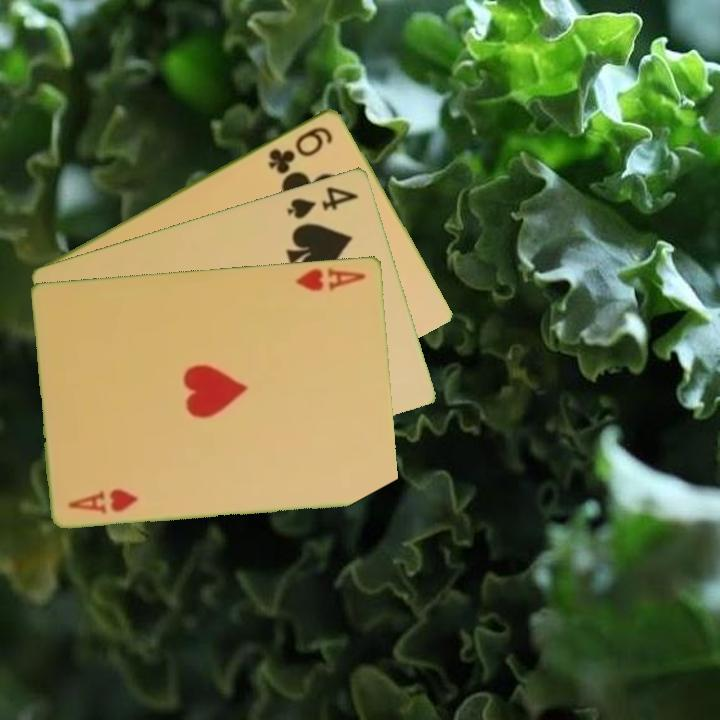4s: (283, 182, 362, 222)
6c: (265, 122, 336, 176)
Ah: (65, 485, 141, 516), (292, 264, 369, 294)
